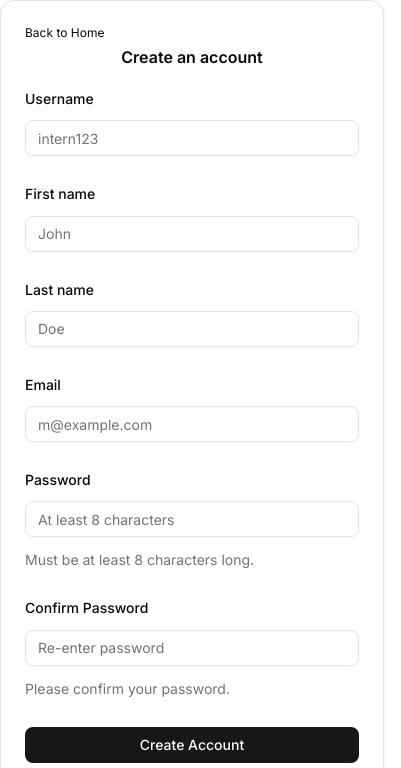
Scenario: SignupCard › validates mismatched passwords
In the field labelled "Username": (192, 138) x1=25 y1=120 x2=359 y2=156, type "newuser"
In the field labelled "First name": (192, 234) x1=25 y1=216 x2=359 y2=252, type "New"
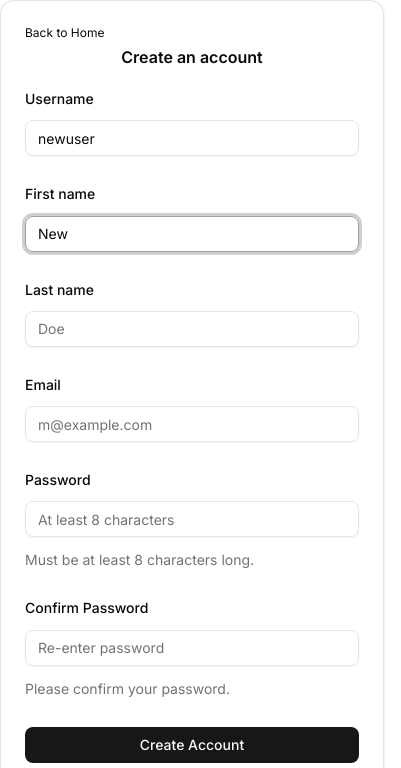
In the field labelled "Last name": (192, 329) x1=25 y1=311 x2=359 y2=347, type "User"
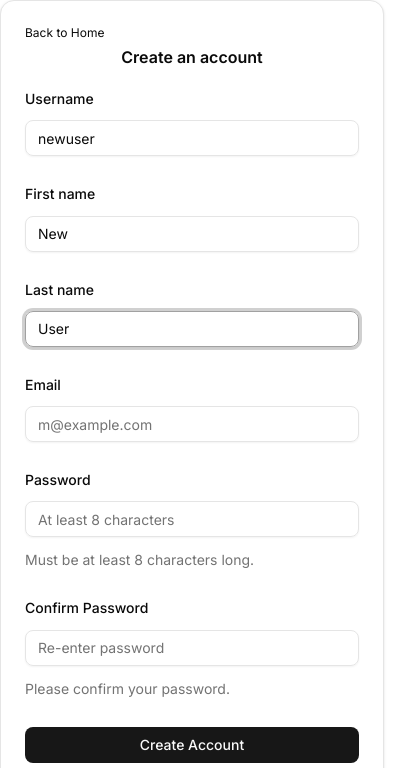
In the field labelled "Email": (192, 424) x1=25 y1=406 x2=359 y2=442, type "new@example.com"
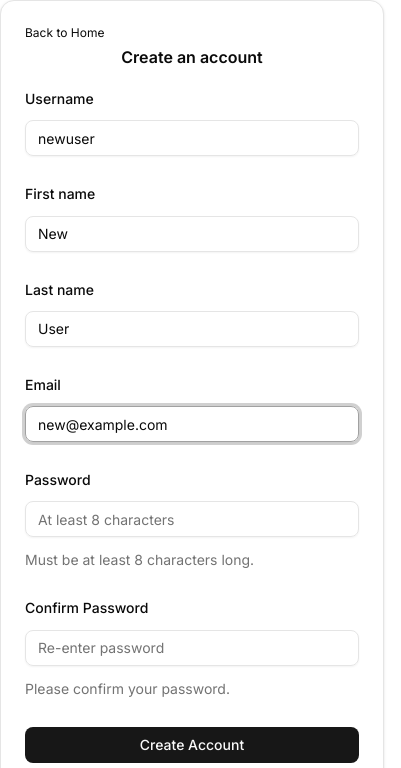
In the password field labelled "Password": (192, 519) x1=25 y1=501 x2=359 y2=537, type "password123"
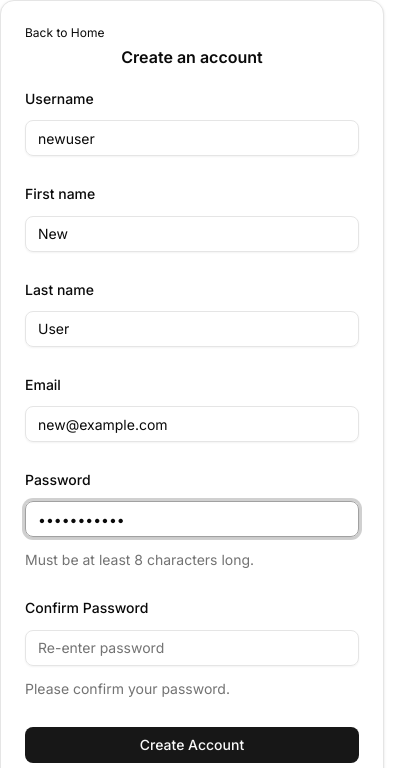
In the password field labelled "Confirm Password": (192, 648) x1=25 y1=630 x2=359 y2=666, type "password456"
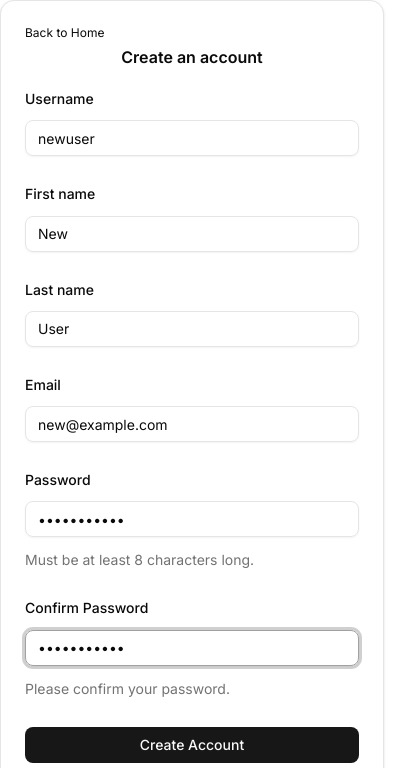
Click the button "Create Account": (192, 744) x1=25 y1=726 x2=359 y2=762
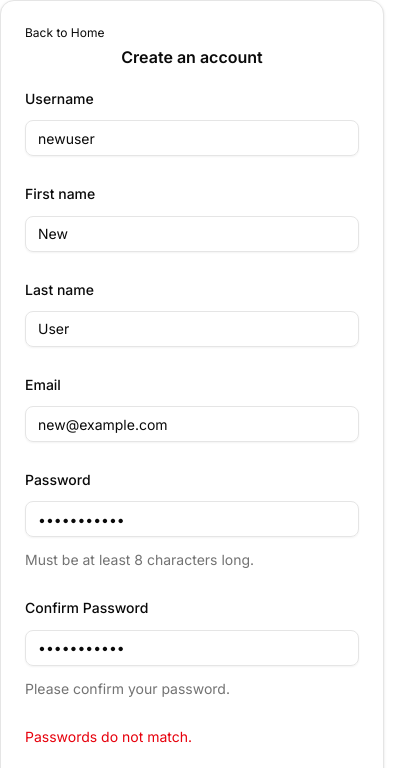
Check: the text "Passwords do not match." is shown, box x1=25 y1=728 x2=192 y2=744
